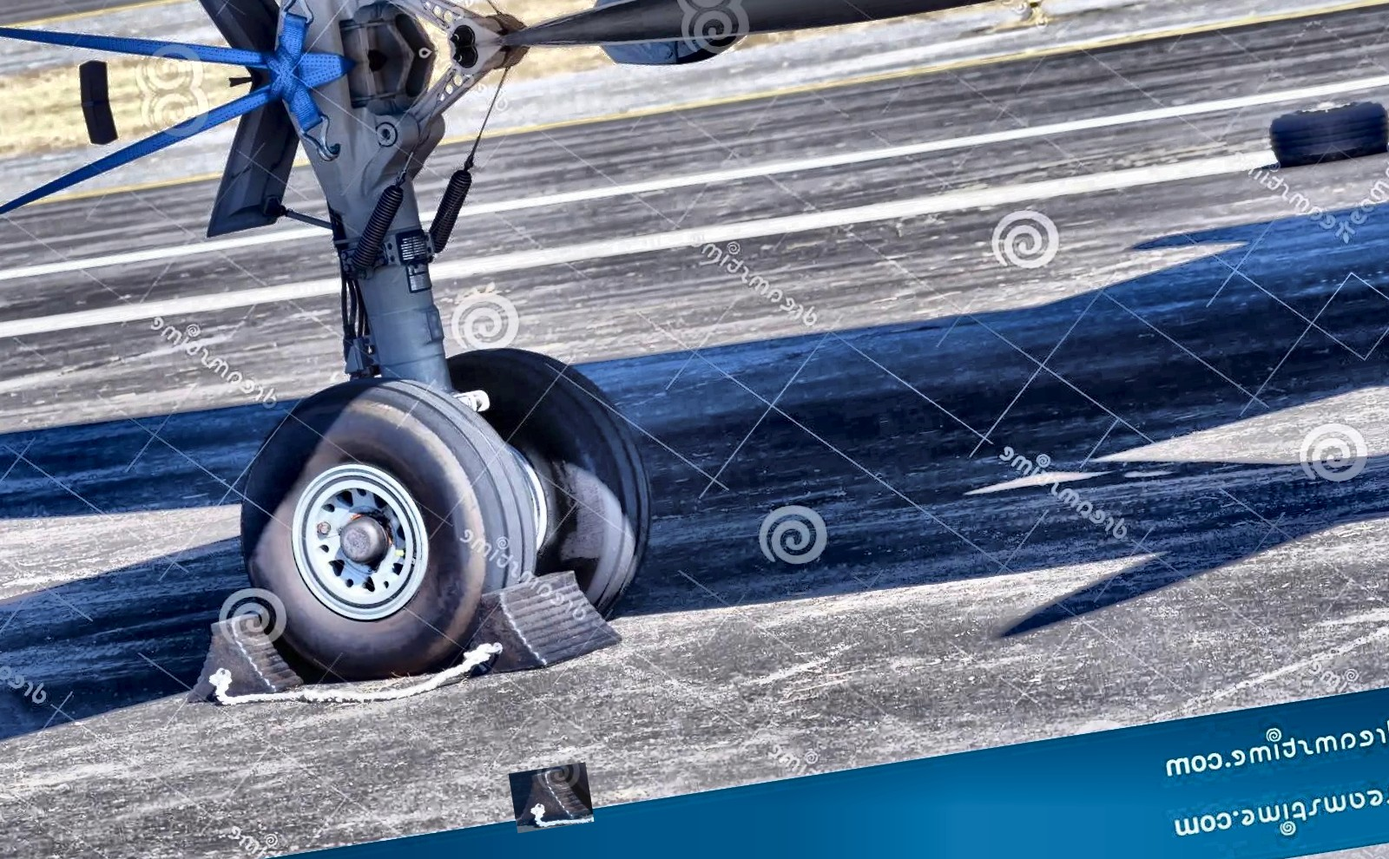chock: (454, 561, 631, 682), (174, 604, 308, 715), (509, 762, 594, 833)
wheel: (220, 355, 558, 694), (437, 325, 671, 641), (1266, 104, 1334, 171), (1327, 95, 1389, 162)
